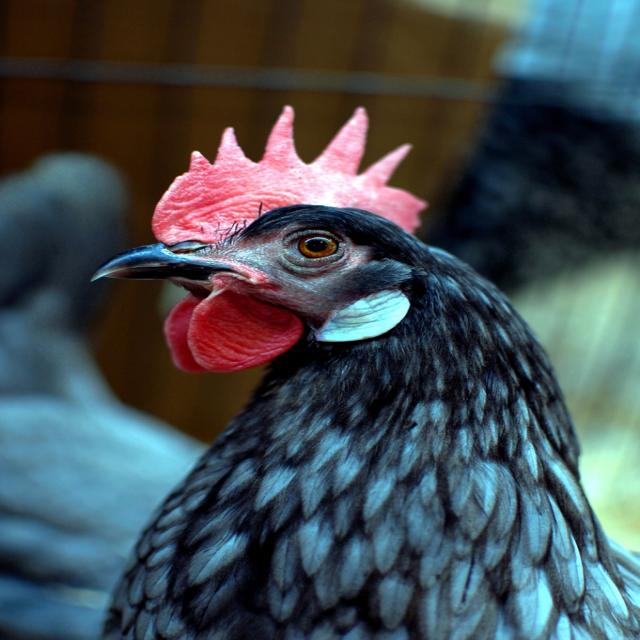Chicken: (74, 139, 639, 640)
